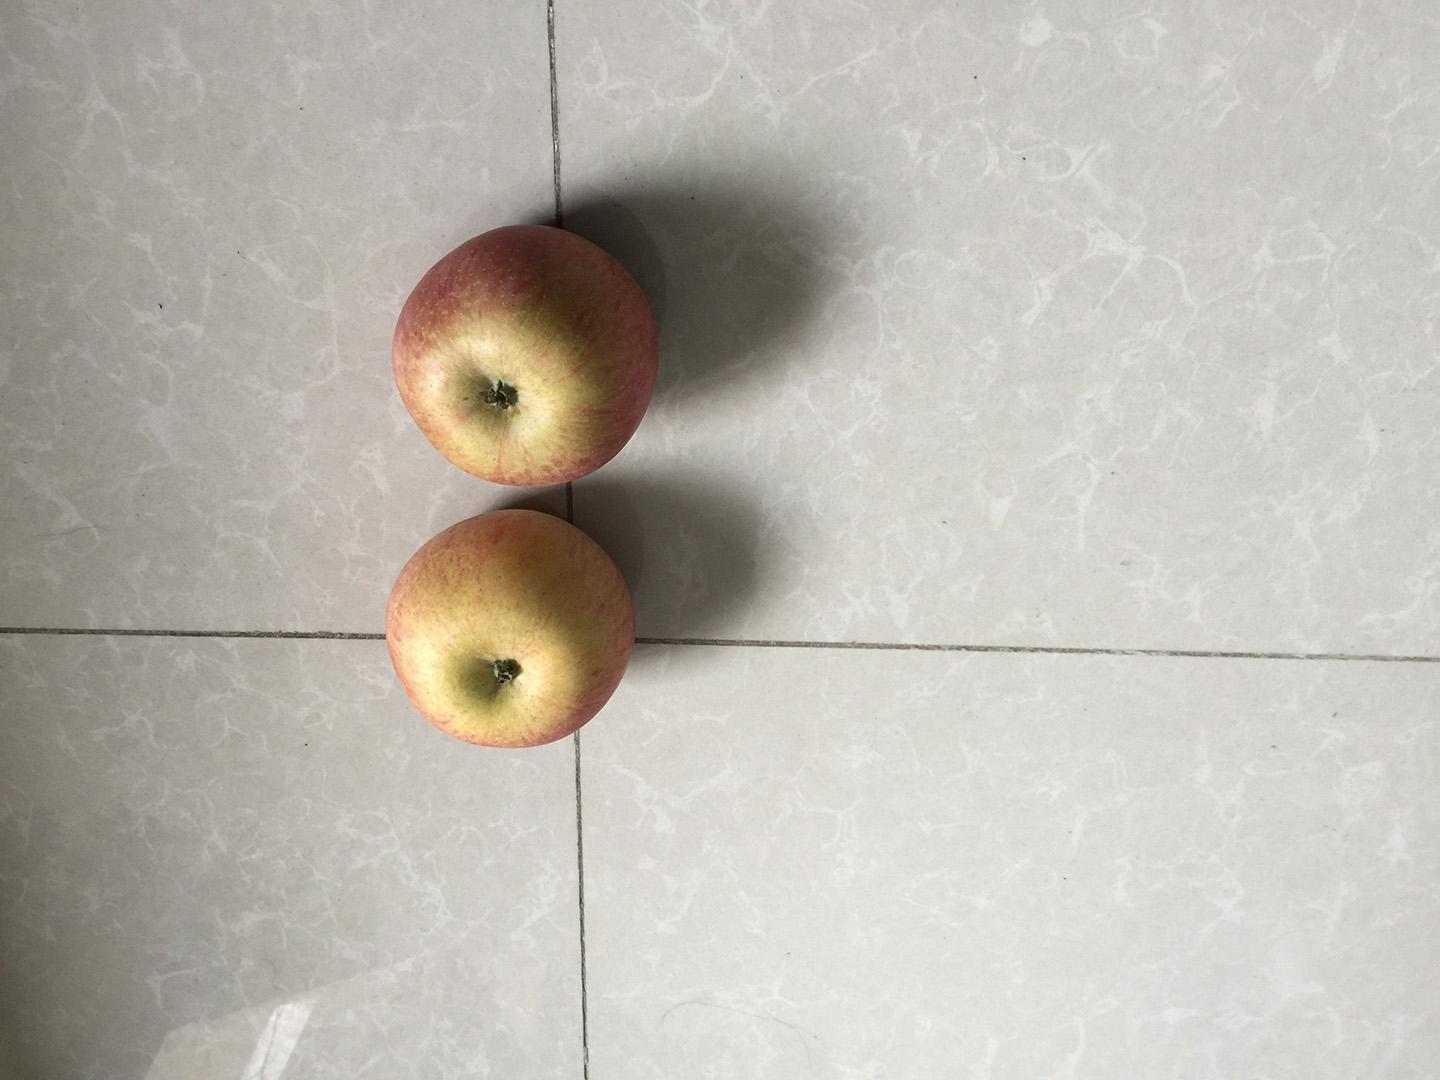apple: (386, 219, 660, 486), (380, 504, 642, 756)
